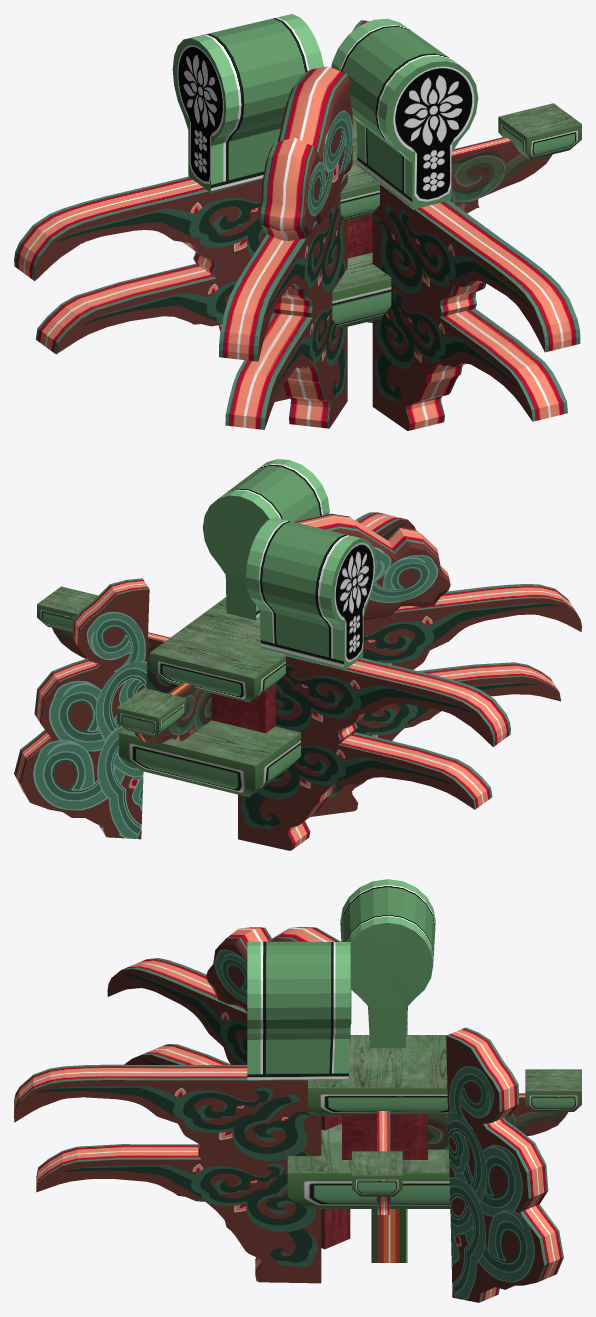
The model's file is SM_R_DancheongCorner_8.fbx.
3 views of the same model, one above another, from view 1: azimuth 30°, elevation 25°; view 2: azimuth 150°, elevation 25°; view 3: azimuth 270°, elevation 25° (orthographic). The views are drawn at different scales.
Visible parts, largest first — view 1: SM_R_DancheongCorner_8; view 2: SM_R_DancheongCorner_8; view 3: SM_R_DancheongCorner_8.
Boxes of the visible parts, <box> form: SM_R_DancheongCorner_8: <box>14,14,581,430</box>; SM_R_DancheongCorner_8: <box>14,459,581,850</box>; SM_R_DancheongCorner_8: <box>14,879,581,1302</box>.
Bounding box in the file's own units: 189 × 195 × 125.
5 materials, 5 textured.
